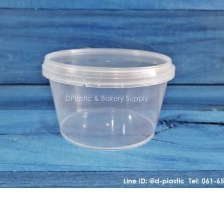plastic_box: (36, 40, 180, 153)
